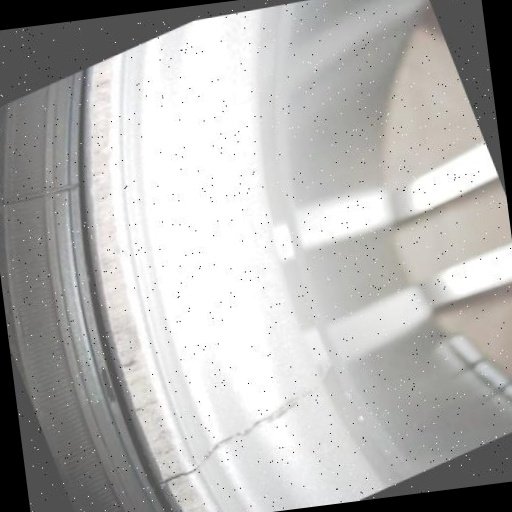crack: (131, 361, 351, 504)
